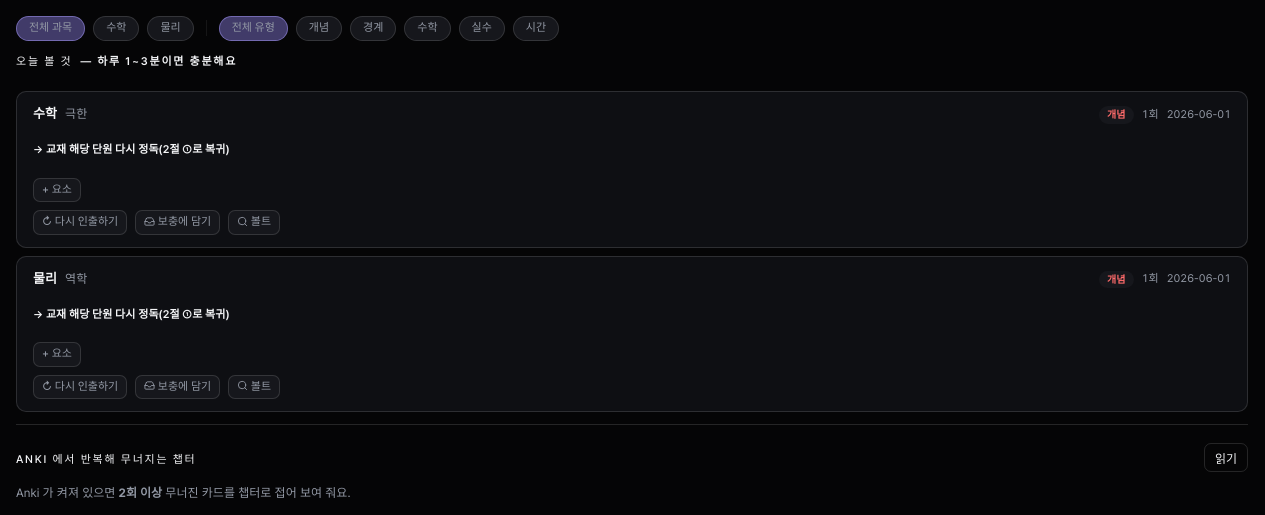
오답 노트 화면 › 과목 필터가 다른 과목 행을 감춘다
Expected: the text "극한" is shown, [65,106,87,123]
Expected: the text "역학" is shown, [65,271,87,288]
Click the button "물리" at [171, 28], box [147,16,194,41]
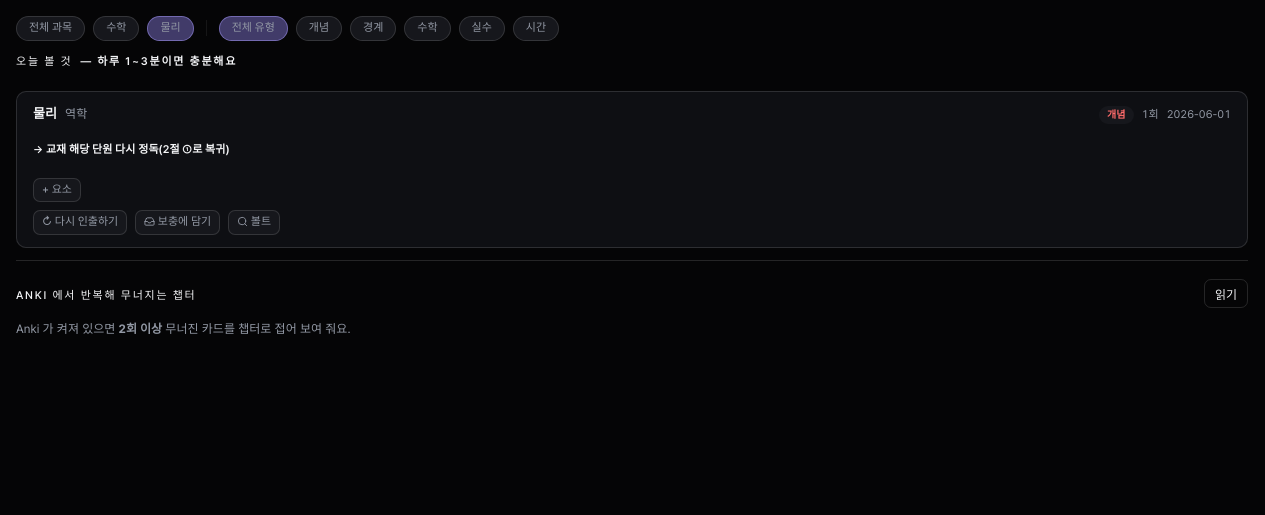
Expected: the text "역학" is shown, [65,106,87,123]
Now the text "극한" is gone
